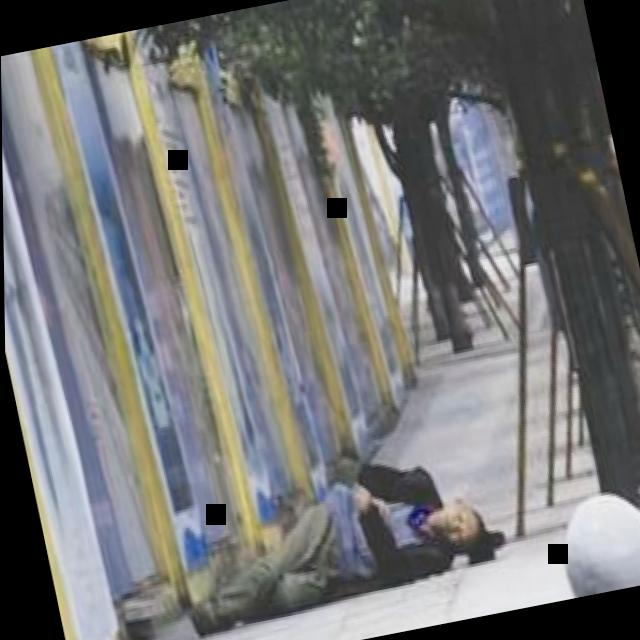Fall-Detected: (147, 421, 515, 640)
